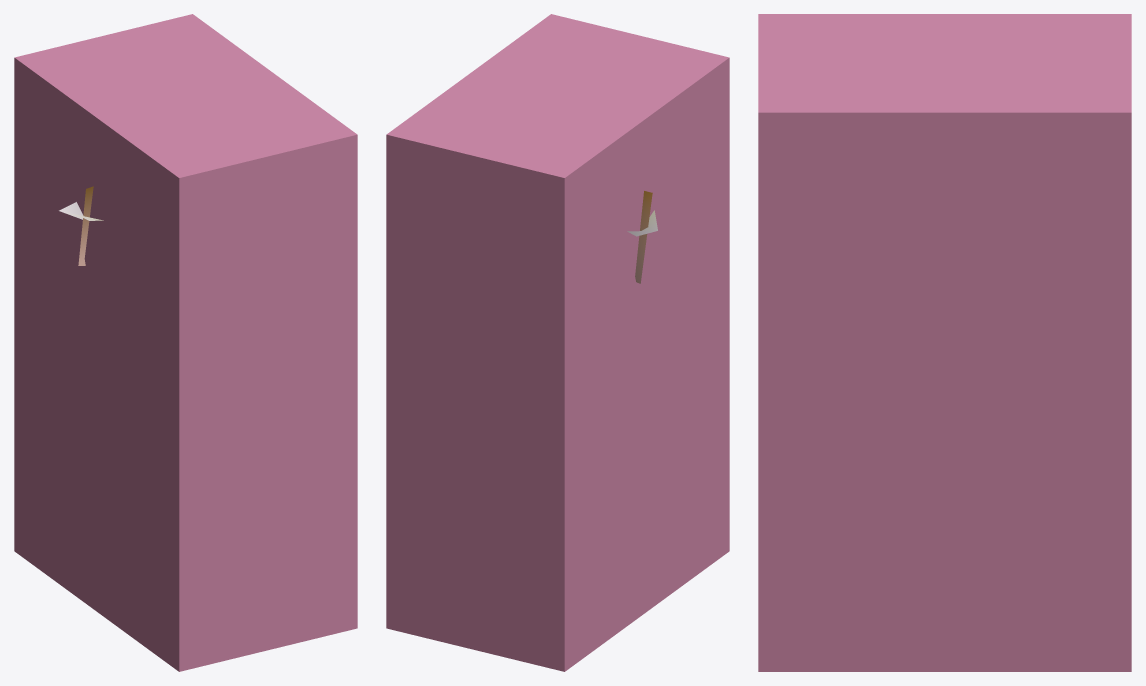
The model's file is tree_oak_sml_b.dae.
The picture shows the model from 3 angles, left to right: view 1: azimuth 30°, elevation 25°; view 2: azimuth 150°, elevation 25°; view 3: azimuth 270°, elevation 25°; orthographic projection. The views are drawn at different scales.
Visible parts, largest first — view 1: Untitled, tree_oak_sml_b550; view 2: Untitled, tree_oak_sml_b550; view 3: Untitled.
Boxes of the visible parts, x1=… form: Untitled: x1=14, y1=14, x2=357, y2=671; tree_oak_sml_b550: x1=59, y1=186, x2=103, y2=265; Untitled: x1=386, y1=14, x2=729, y2=671; tree_oak_sml_b550: x1=627, y1=191, x2=657, y2=283; Untitled: x1=758, y1=14, x2=1131, y2=671.
Size of the model in its own units: 3.19 by 4.48 by 7.4.
